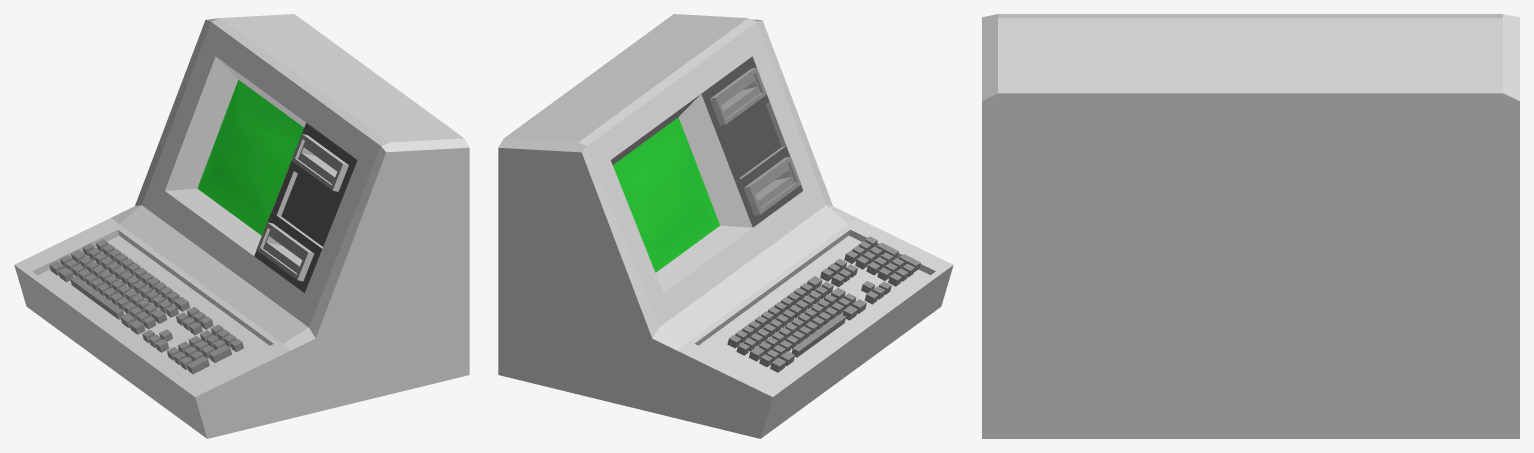
Rendered from InteractableComputerOn.glb.
3 views of the same model, side by side, from view 1: azimuth 30°, elevation 25°; view 2: azimuth 150°, elevation 25°; view 3: azimuth 270°, elevation 25° (orthographic). The views are drawn at different scales.
Parts seen in each view (by area): view 1: Computer; view 2: Computer; view 3: Computer.
Part boxes in pixels (x1,y1,x2,y2): Computer: (14,14,469,438); Computer: (498,14,953,438); Computer: (982,14,1519,438).
Bounding box in the file's own units: 1.12 × 0.9651 × 1.28.
